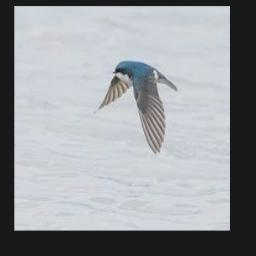Swallow: (95, 60, 179, 153)
